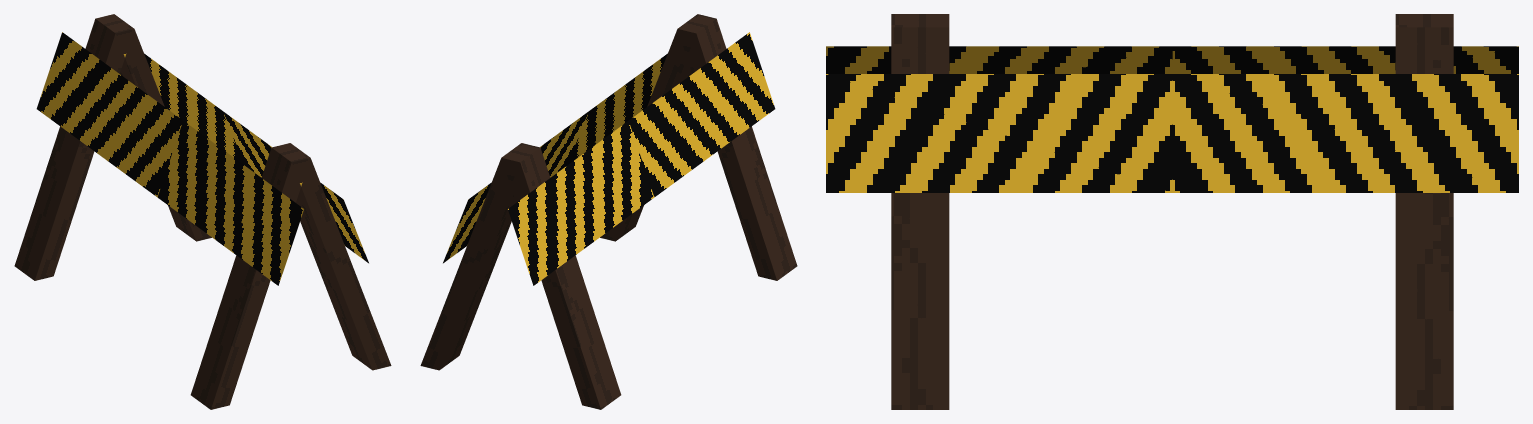
Rendered from stopbarrier.glb.
The picture shows the model from 3 angles, left to right: view 1: azimuth 30°, elevation 25°; view 2: azimuth 150°, elevation 25°; view 3: azimuth 270°, elevation 25°; orthographic projection. The views are drawn at different scales.
Parts seen in each view (by area): view 1: stopbarrier; view 2: stopbarrier; view 3: stopbarrier.
Boxes of the visible parts, <box> form: stopbarrier: <box>14,14,391,409</box>; stopbarrier: <box>420,14,797,409</box>; stopbarrier: <box>826,14,1518,409</box>.
Size of what is drawn, in the model's own units: 1.05 by 1.27 by 2.44.
1 material, 1 textured.
